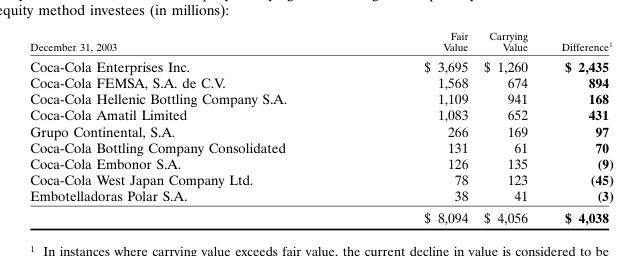table: (29, 29, 613, 224)
table column: (29, 29, 354, 224), (354, 29, 475, 224), (543, 29, 613, 224), (475, 29, 543, 224)
table column header: (29, 29, 613, 55)
table row: (29, 29, 613, 55), (29, 55, 613, 74), (29, 187, 613, 206), (29, 206, 613, 224), (29, 138, 613, 155), (29, 74, 613, 90), (29, 90, 613, 106), (29, 106, 613, 122), (29, 122, 613, 138), (29, 155, 613, 171), (29, 171, 613, 187)
